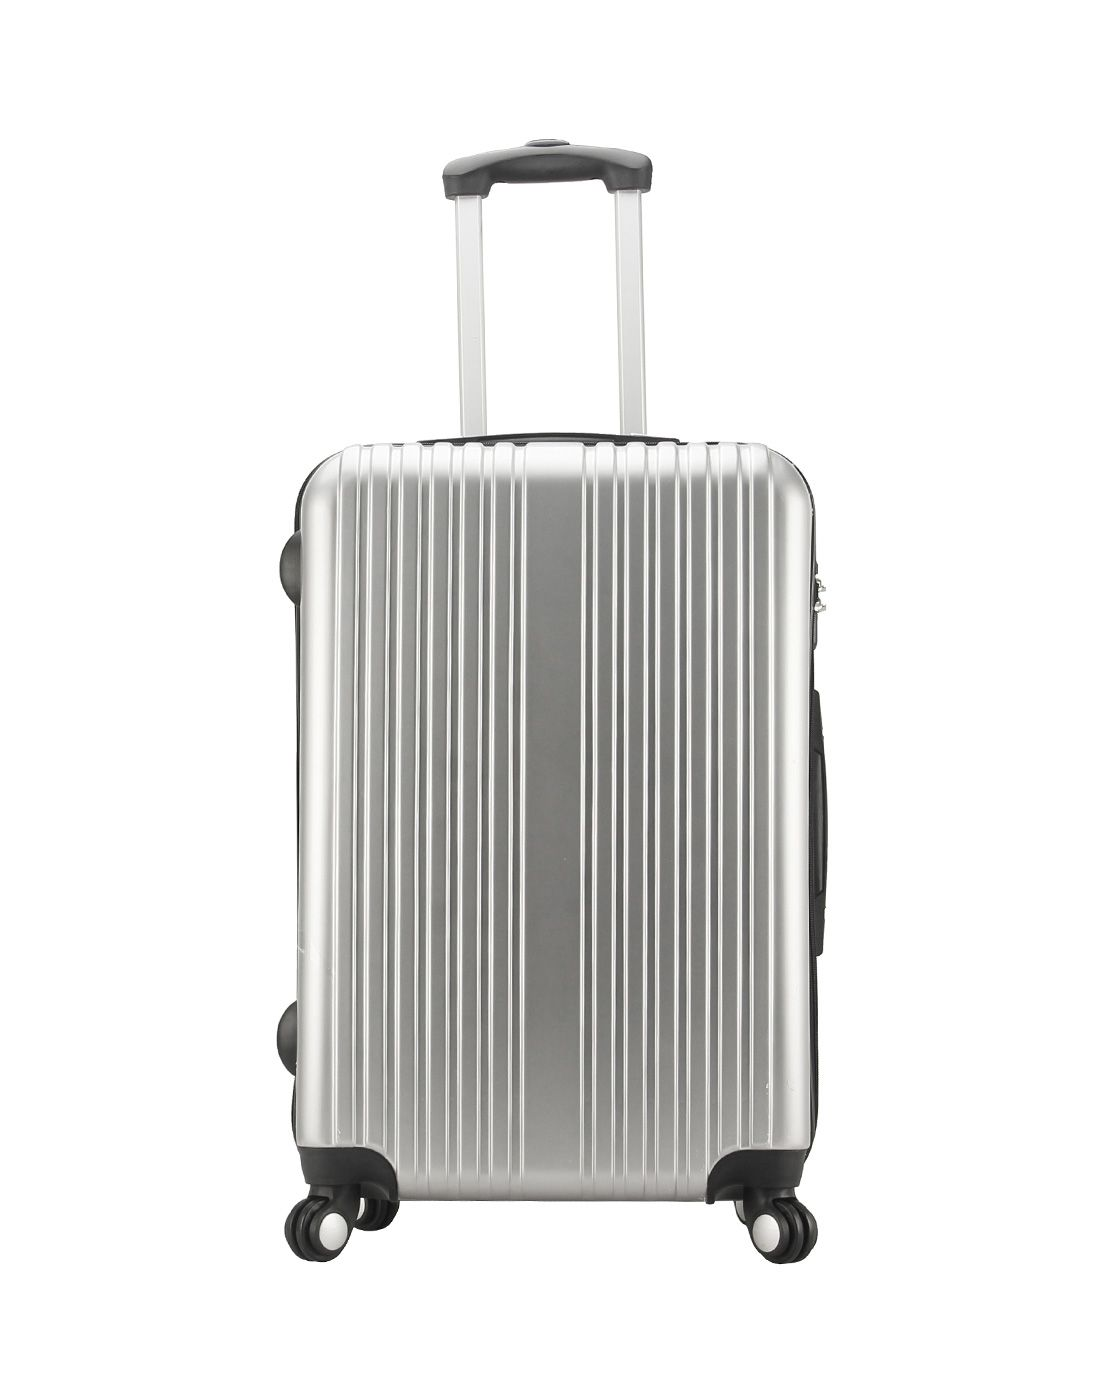luggage: (278, 140, 833, 1264)
